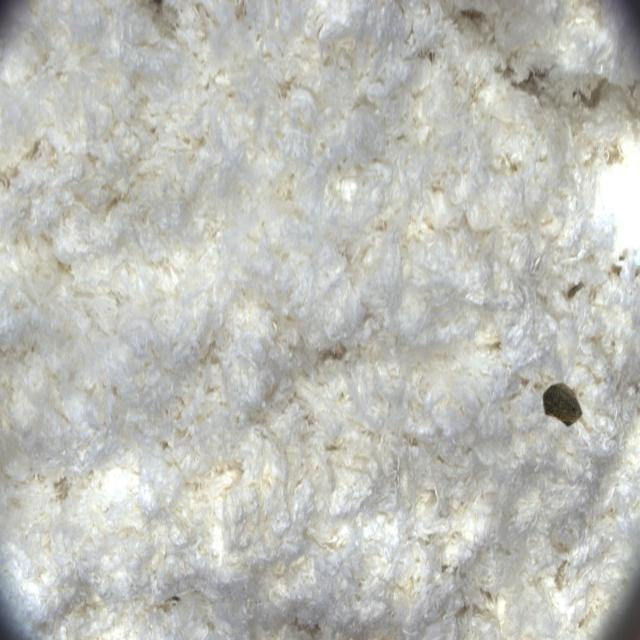dust: (532, 359, 604, 455)
